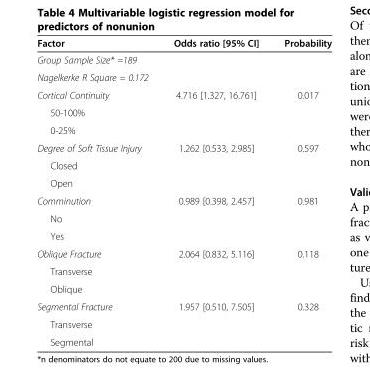table: (36, 36, 331, 347)
table column: (36, 36, 160, 347), (160, 36, 270, 347), (270, 36, 331, 347)
table column header: (36, 36, 331, 51)
table projected row header: (36, 103, 331, 121), (36, 173, 331, 191), (36, 226, 331, 244), (36, 279, 331, 297), (36, 51, 331, 68), (36, 68, 331, 85), (36, 121, 331, 138), (36, 156, 331, 173), (36, 209, 331, 226), (36, 262, 331, 279), (36, 315, 331, 332)
table row: (36, 85, 331, 103), (36, 103, 331, 121), (36, 138, 331, 156), (36, 173, 331, 191), (36, 191, 331, 209), (36, 226, 331, 244), (36, 244, 331, 262), (36, 279, 331, 297), (36, 297, 331, 315), (36, 51, 331, 68), (36, 68, 331, 85), (36, 121, 331, 138), (36, 156, 331, 173), (36, 209, 331, 226), (36, 262, 331, 279), (36, 315, 331, 332), (36, 36, 331, 51), (36, 332, 331, 347)
